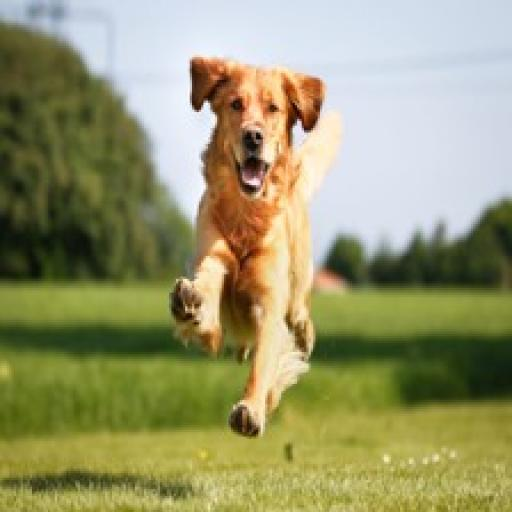dog: (163, 48, 350, 447)
